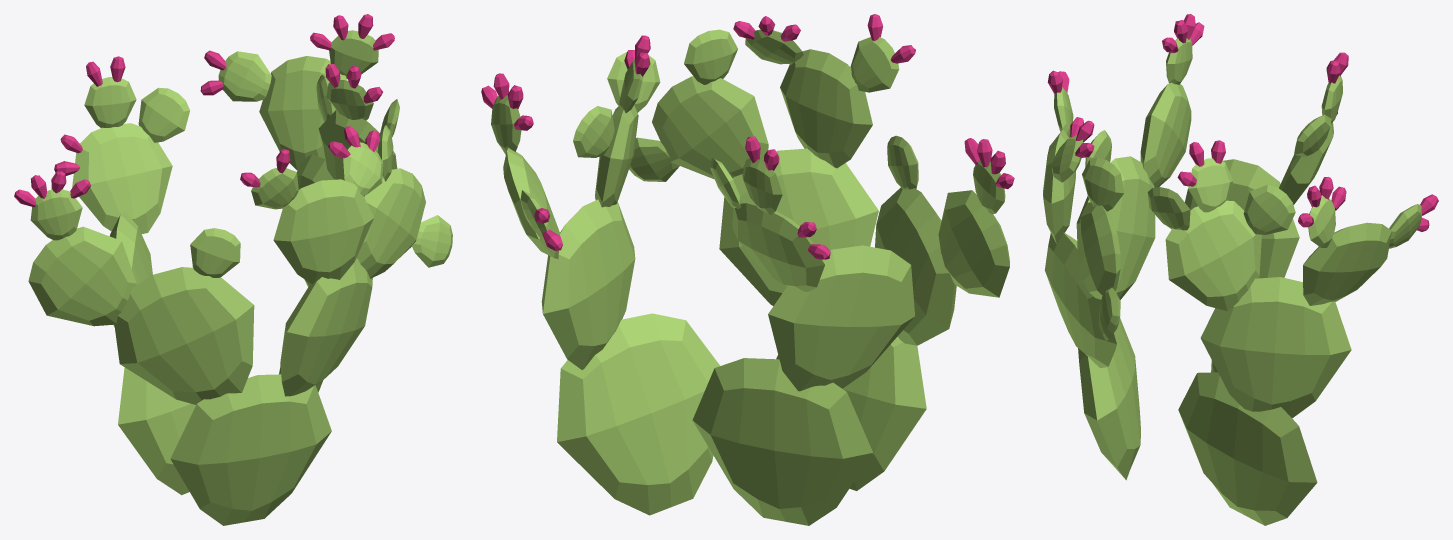
The model's file is Prickly_Pear.fbx.
The picture shows the model from 3 angles, left to right: view 1: azimuth 30°, elevation 25°; view 2: azimuth 150°, elevation 25°; view 3: azimuth 270°, elevation 25°; orthographic projection. The views are drawn at different scales.
Visible parts, largest first — view 1: Prickily_Pear; view 2: Prickily_Pear; view 3: Prickily_Pear.
Part boxes in pixels (x1=…): Prickily_Pear: x1=14, y1=14, x2=452, y2=525; Prickily_Pear: x1=481, y1=14, x2=1014, y2=525; Prickily_Pear: x1=1043, y1=14, x2=1438, y2=525.
Bounding box in the file's own units: 383 × 342 × 302.
